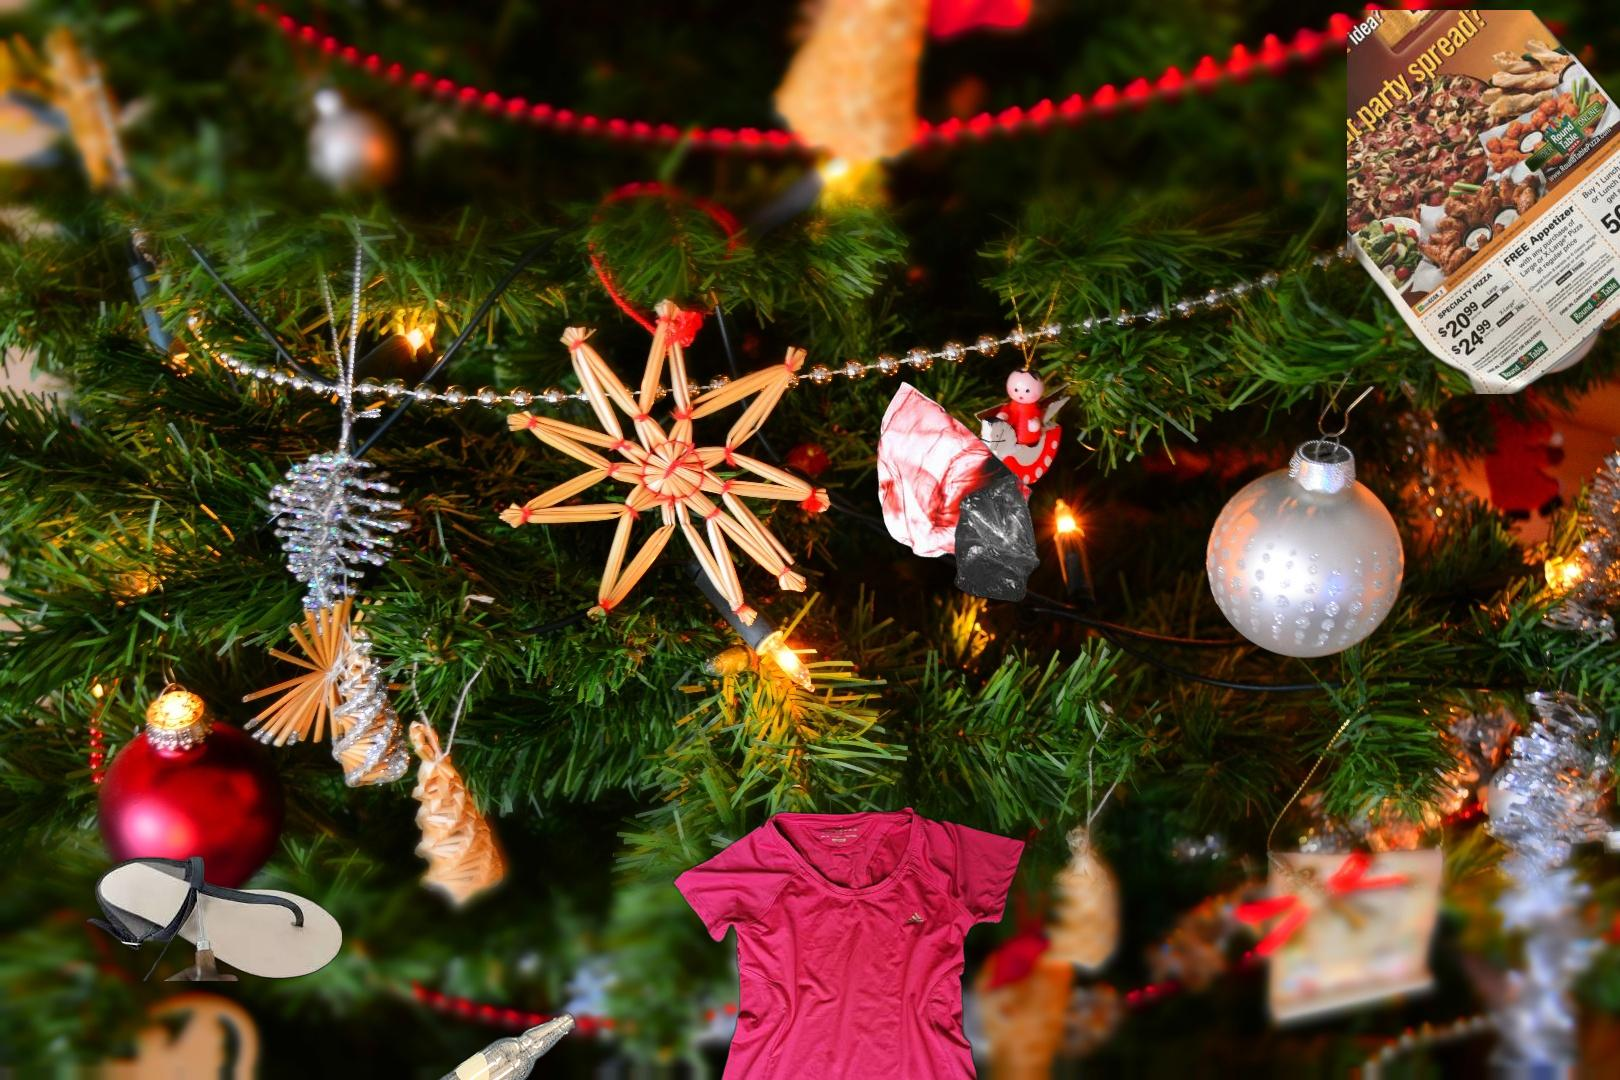clothes: (670, 802, 1029, 1080)
glass: (407, 1006, 580, 1080)
paper: (1348, 10, 1620, 394)
plastic-bag: (874, 380, 1045, 604)
shoes: (82, 853, 342, 981)
